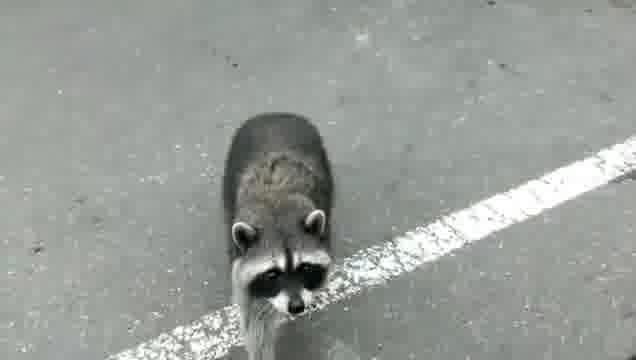raccoon: (218, 107, 340, 358)
